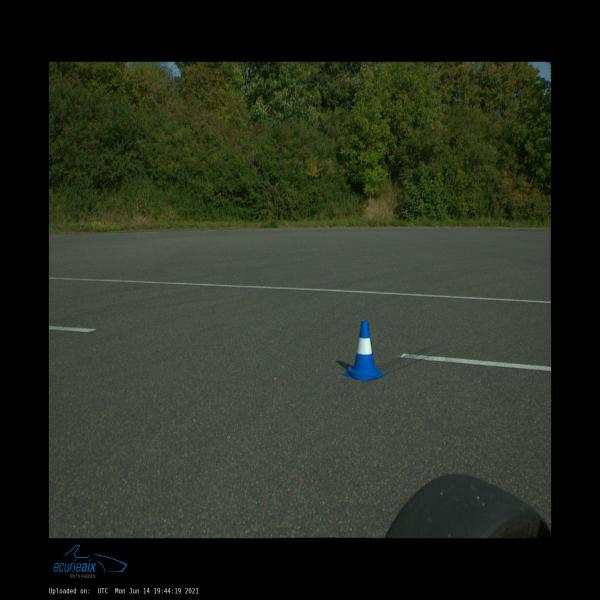blue_cone: (343, 320, 385, 381)
